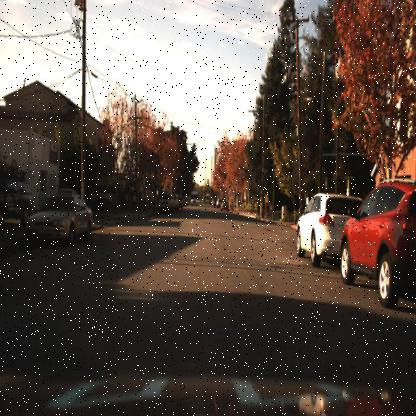car: (340, 176, 415, 312), (295, 191, 365, 266), (294, 189, 359, 267), (24, 187, 94, 244), (25, 194, 93, 244), (157, 191, 175, 214), (158, 191, 174, 213)
truck: (189, 189, 200, 210)
